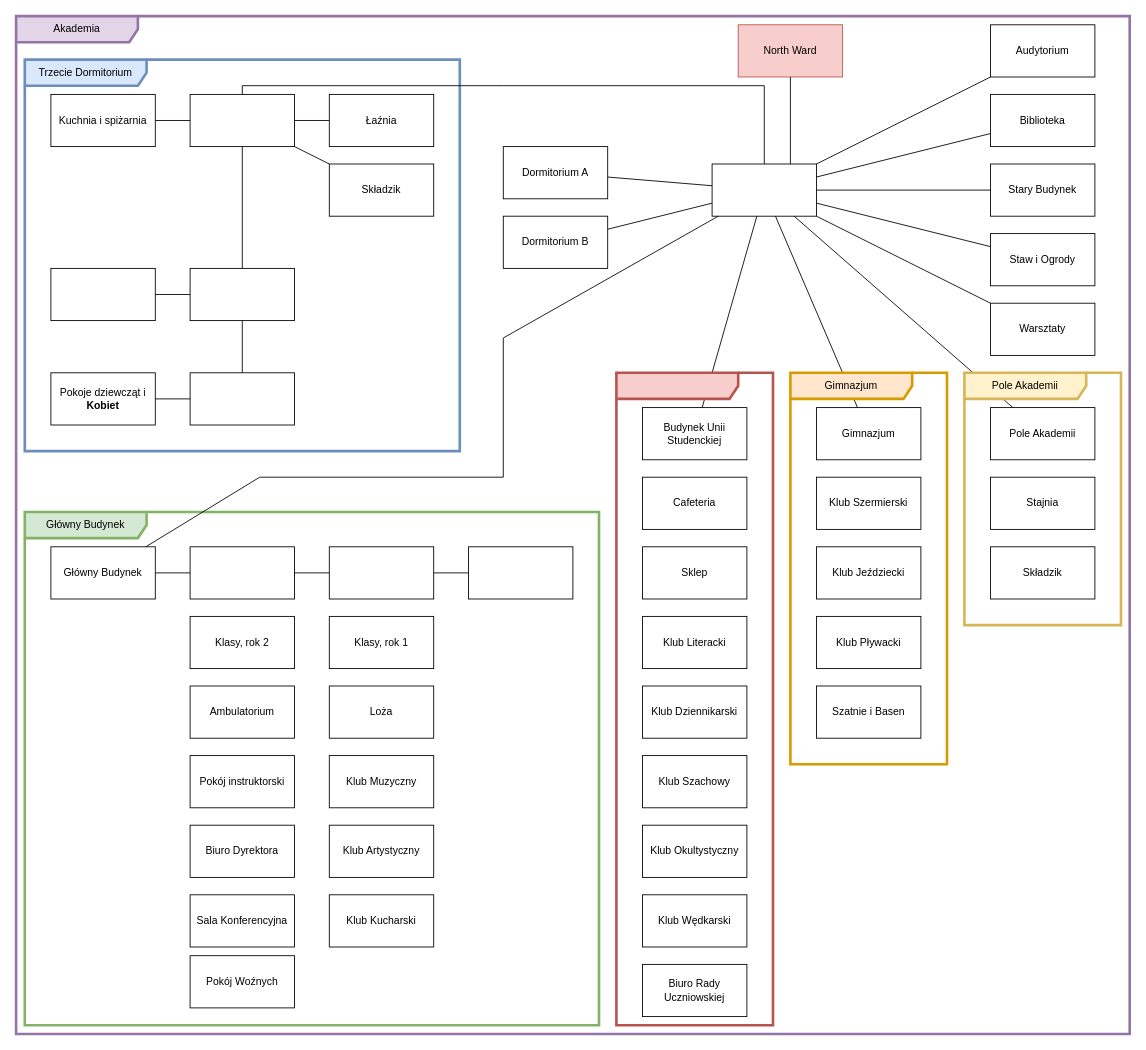
Some shapes in this 1146 by 1050 pixel diagram are drawn without their labels. The box of each missing label's shape, as (x1, y1, x2, y2) in pixels:
Dach: (468, 546, 573, 599)
Drugie Pietro: (189, 372, 294, 425)
Dziedziniec: (711, 163, 816, 216)
Parter: (189, 546, 294, 599)
Pierwsze Pietro: (189, 268, 294, 321)
Piętro: (328, 546, 434, 599)
Pokoje chłopców i Mężczyzn: (50, 268, 155, 321)
Sala z korytarzem: (189, 94, 294, 147)
Unia Studencka: (615, 371, 774, 1026)
